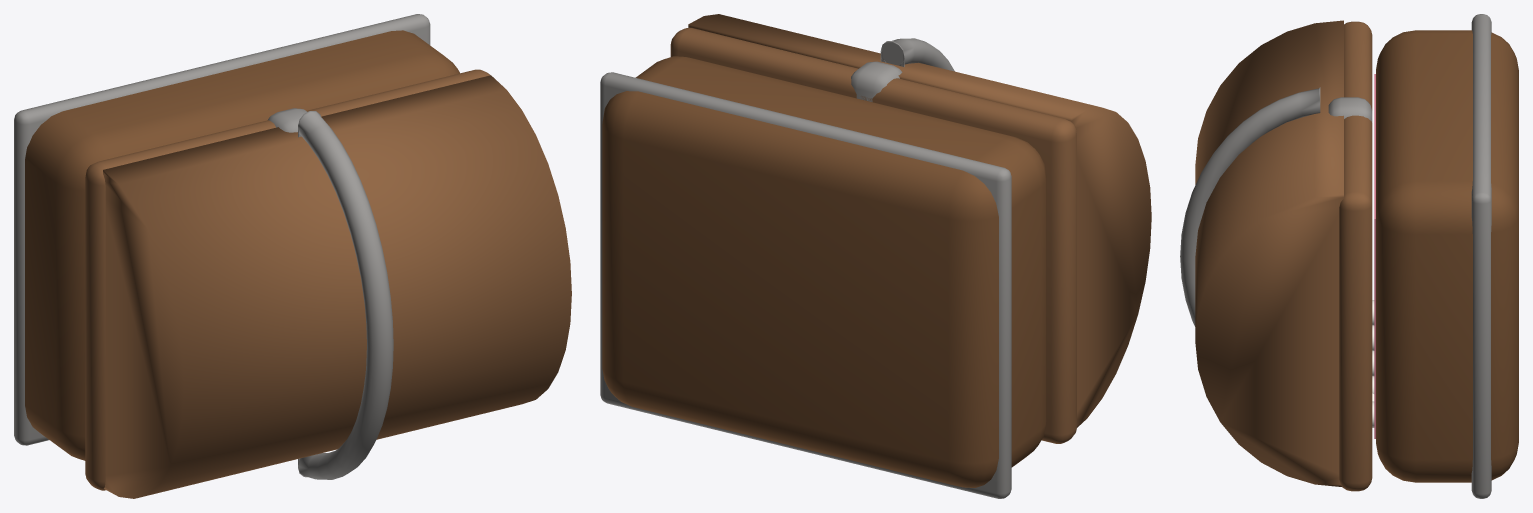
The model's file is dicechest.glb.
3 views of the same model, side by side, from view 1: azimuth 30°, elevation 25°; view 2: azimuth 150°, elevation 25°; view 3: azimuth 270°, elevation 25° (orthographic). The views are drawn at different scales.
Visible parts, largest first — view 1: LidRound, Box, LidArch, LidBox, Band, LidBand; view 2: Box, LidRound, LidBox, Band, LidArch, LidBand; view 3: Box, LidRound, LidBox, Band, LidArch, LidBand, Gullet.
Boxes of the visible parts, x1=… form: LidRound: x1=103, y1=75, x2=571, y2=498; Box: x1=25, y1=30, x2=459, y2=460; LidArch: x1=298, y1=111, x2=393, y2=479; LidBox: x1=85, y1=69, x2=490, y2=490; Band: x1=14, y1=14, x2=430, y2=445; LidBand: x1=268, y1=108, x2=306, y2=132; Box: x1=602, y1=56, x2=1046, y2=487; LidRound: x1=688, y1=14, x2=1151, y2=427; LidBox: x1=670, y1=28, x2=1076, y2=443; Band: x1=600, y1=72, x2=1011, y2=498; LidArch: x1=880, y1=38, x2=954, y2=71; LidBand: x1=851, y1=61, x2=902, y2=101; Box: x1=1376, y1=30, x2=1518, y2=482; LidRound: x1=1195, y1=20, x2=1343, y2=487; LidBox: x1=1339, y1=21, x2=1372, y2=491; Band: x1=1471, y1=14, x2=1491, y2=498; LidArch: x1=1180, y1=87, x2=1320, y2=326; LidBand: x1=1328, y1=97, x2=1372, y2=122; Gullet: x1=1374, y1=74, x2=1375, y2=438.
Size of the model in its own units: 1.53 by 1.3 by 1.18.
